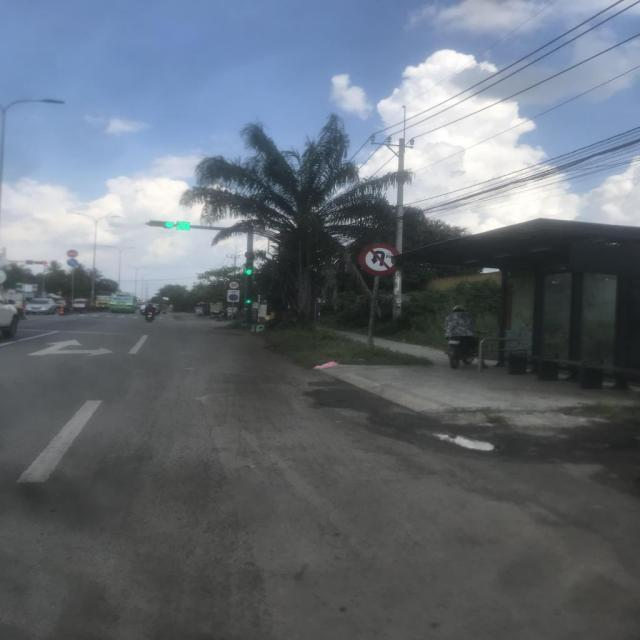cam_do_xe: (229, 293, 238, 302)
cam_o_to_quay_dau_xe: (359, 242, 400, 277)
cam_xe_di_nguoc_chieu: (68, 250, 78, 258)
huong_phai_di_vuot_chuong_ngai_vat_phai: (68, 259, 78, 267)
toc_do_toi_da_60: (228, 280, 240, 289)
